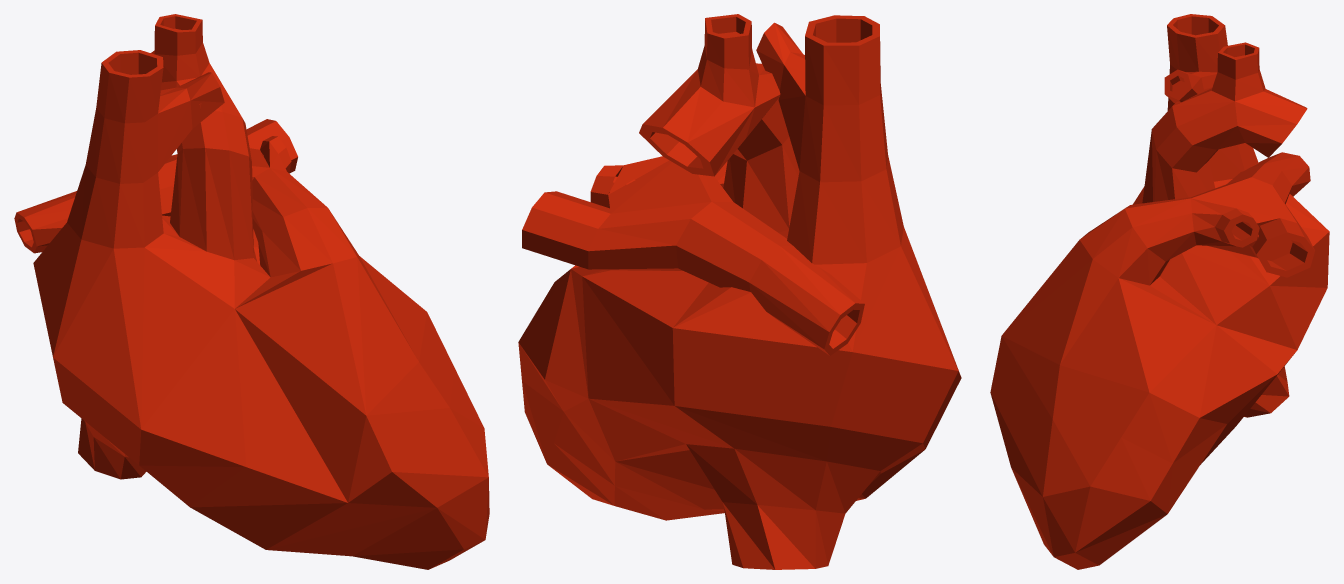
File: 1410 Heart.obj
3 views of the same model, side by side, from view 1: azimuth 30°, elevation 25°; view 2: azimuth 150°, elevation 25°; view 3: azimuth 270°, elevation 25° (orthographic). The views are drawn at different scales.
Parts seen in each view (by area): view 1: Heart; view 2: Heart; view 3: Heart.
Part boxes in pixels (x1,y1,x2,y2): Heart: (14,14,489,569); Heart: (518,14,961,569); Heart: (990,14,1329,569).
Size of the model in its own units: 45.46 by 58.75 by 40.7.
1 material, 1 textured.
